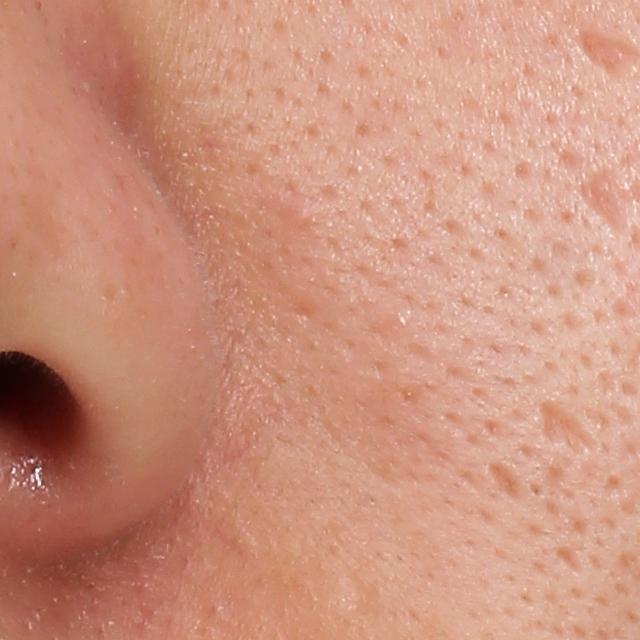atrophic_scar: (538, 401, 606, 462), (577, 163, 622, 234), (207, 514, 255, 566), (487, 458, 526, 505), (555, 541, 591, 581)
